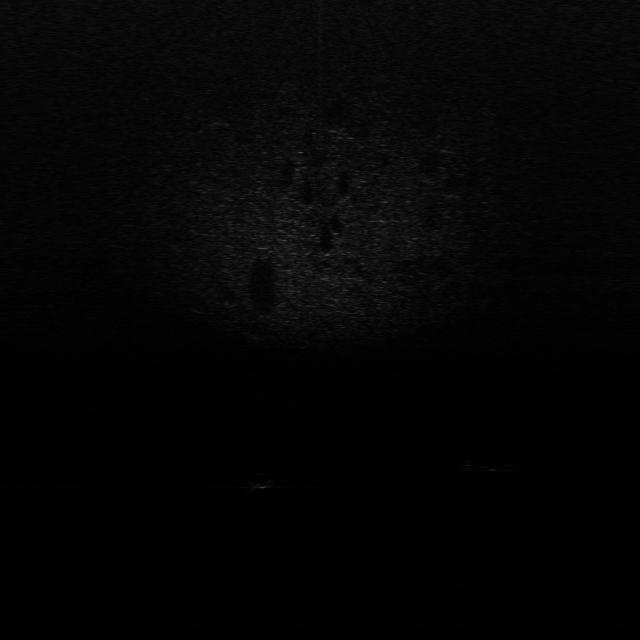ball: (248, 470, 277, 491)
human body: (457, 454, 539, 474)
